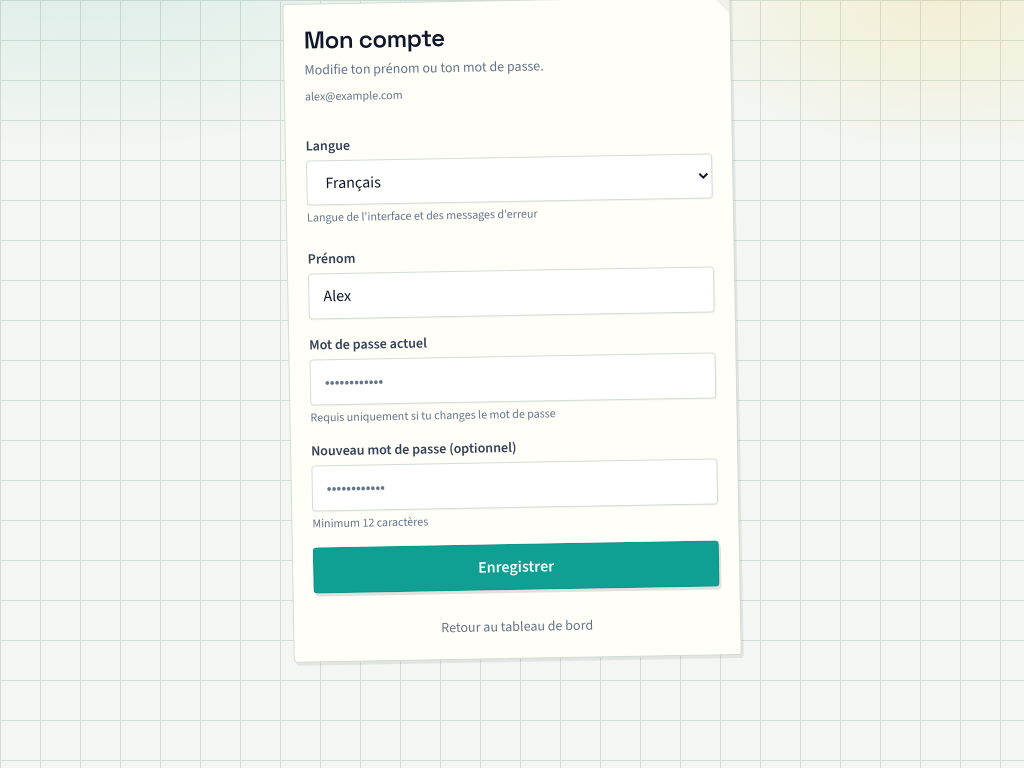
Test: AccountSettingsForm › refuse d'enregistrer sans modification
What coordinates should you click on to do the following:
click the button "Enregistrer"
I would click on:
 (516, 567)
Its box is [313,540,720,594].
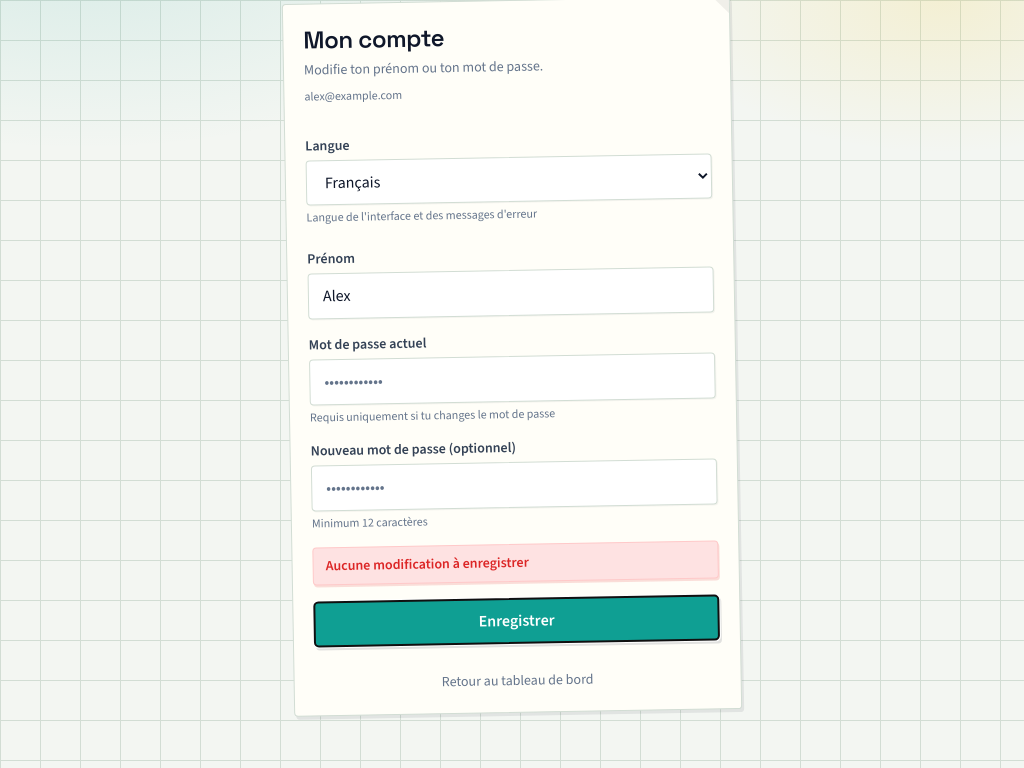
Expected: the message reads "Aucune modification à enregistrer", [326,553,529,575]
